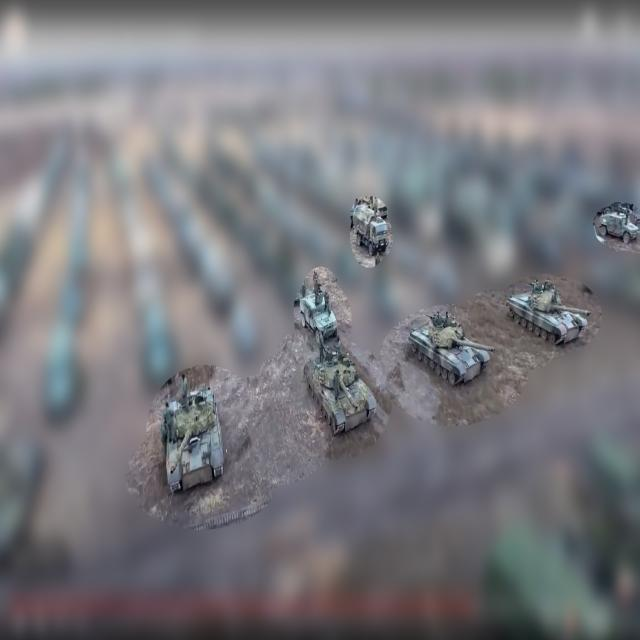tank: (161, 379, 226, 499), (406, 310, 496, 390), (303, 350, 374, 439), (505, 280, 591, 351)
